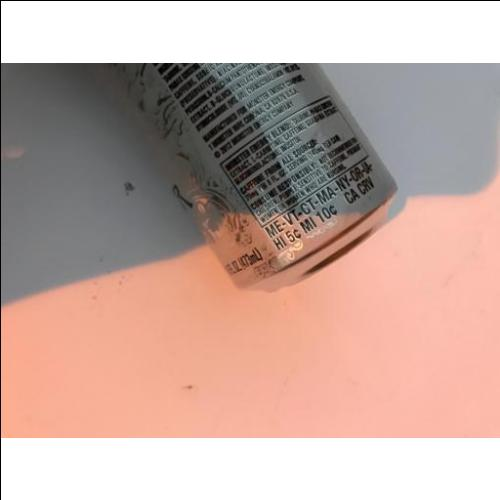metal: (110, 64, 397, 294)
